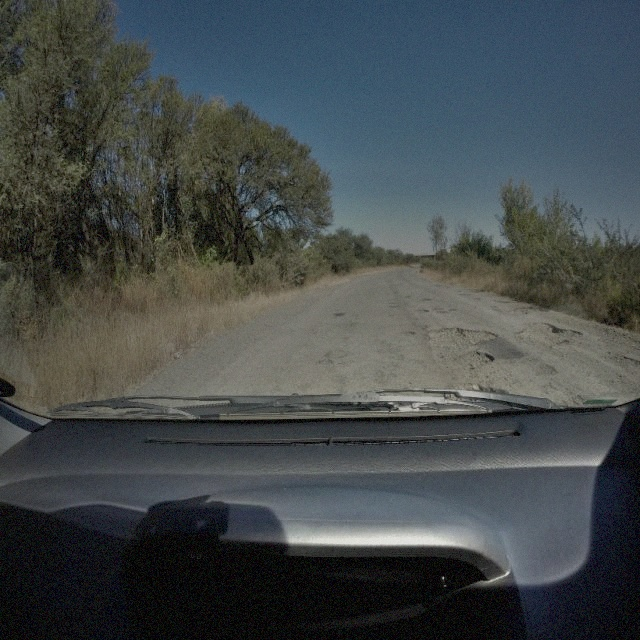pothole: (513, 320, 583, 349), (426, 324, 496, 347), (457, 349, 494, 370), (606, 352, 638, 368), (413, 305, 428, 313), (403, 327, 414, 337)
